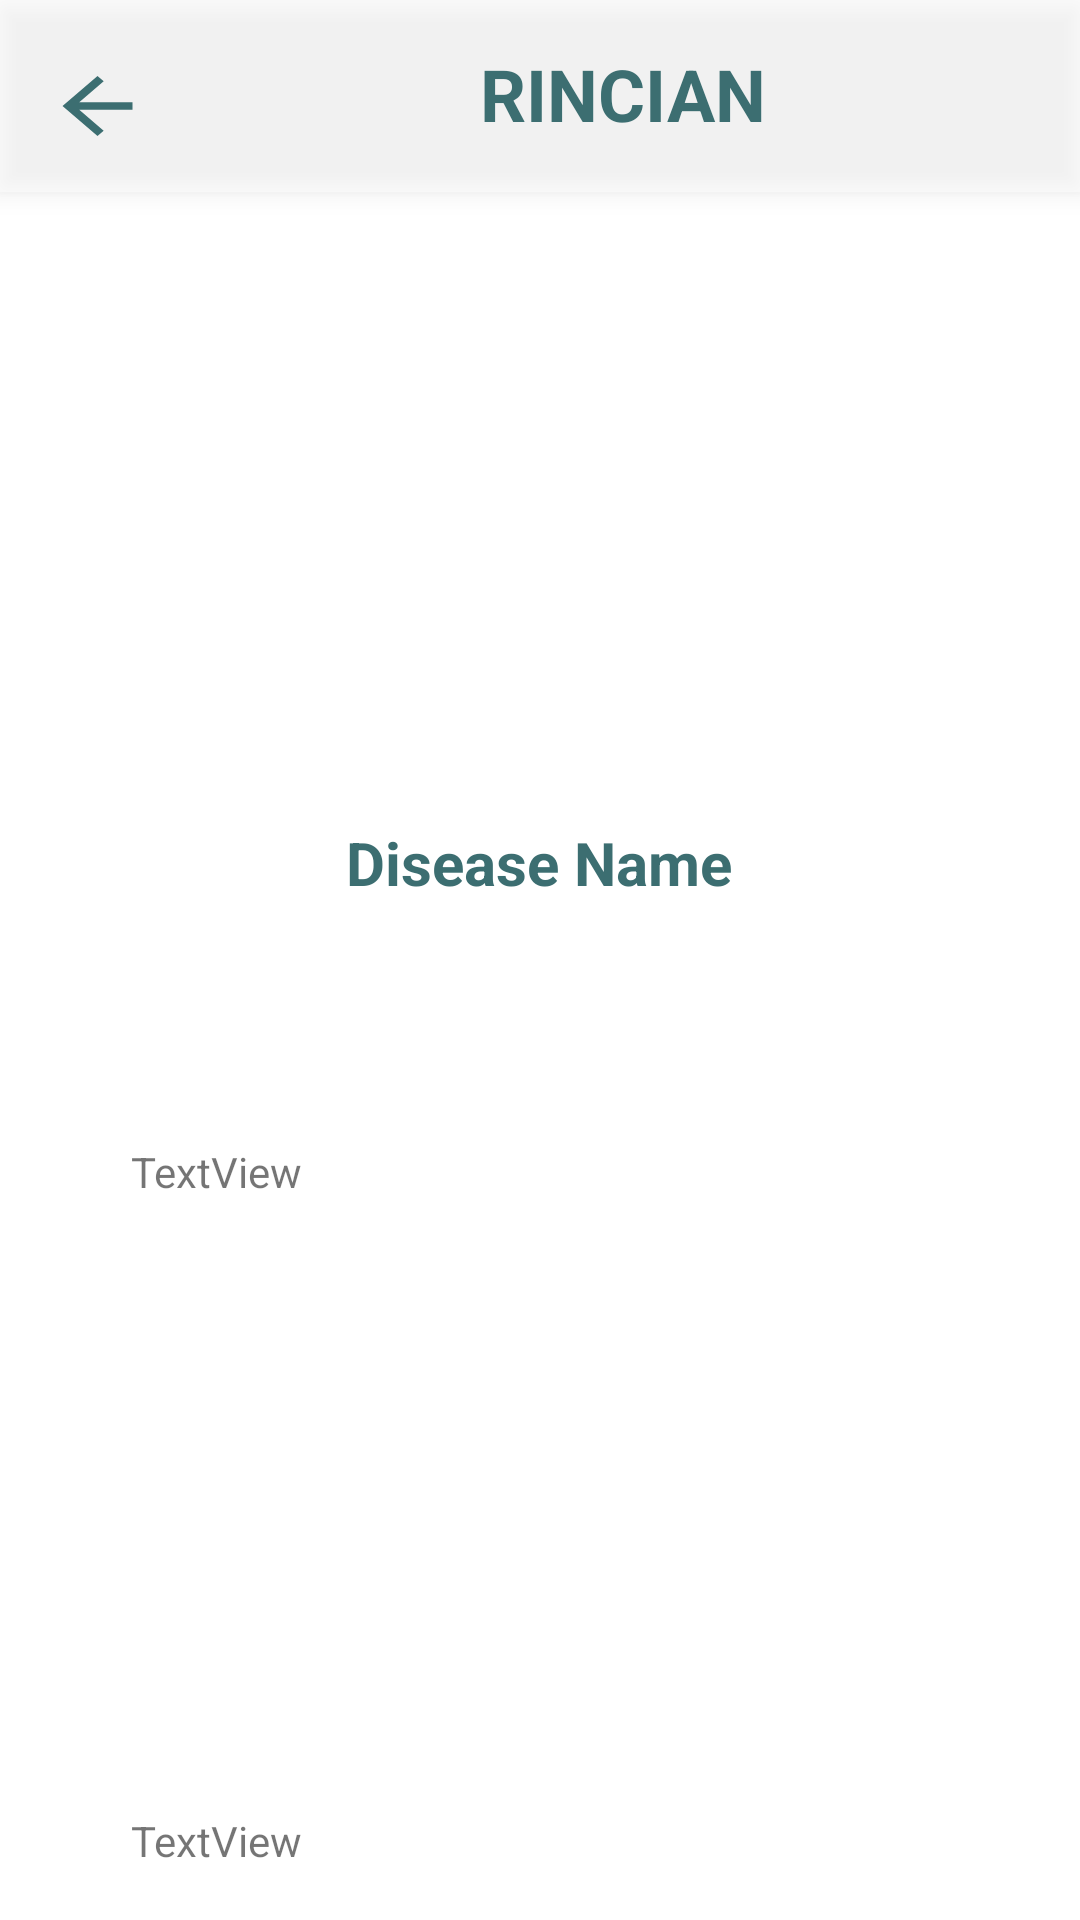

Screen size 1080 x 1920. Icon name, then its center in pixels as (x=x, y=y):
arrow back: (x=98, y=106)
